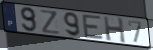7: (126, 19, 143, 44)
9: (62, 12, 82, 38), (19, 6, 38, 33)
E: (81, 13, 105, 41)
H: (103, 15, 127, 44)
Z: (39, 9, 62, 36)
